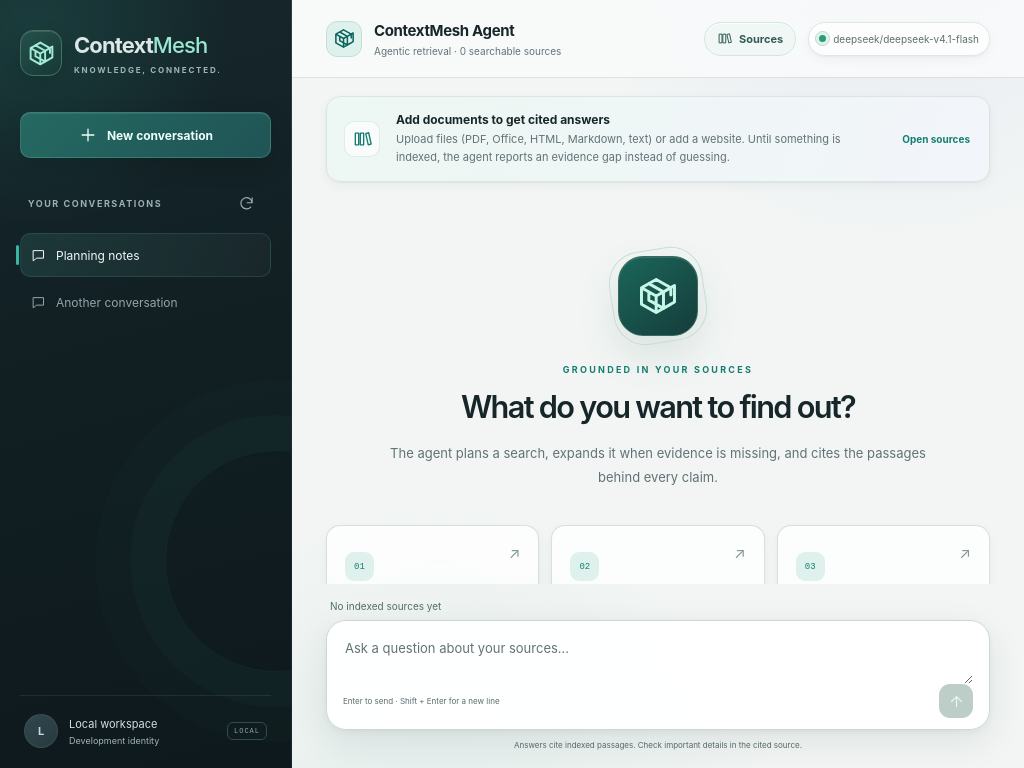
Scenario: saved conversation boundaries › shows a safe failure without disclosing arbitrary server text
Type "Help me plan" into the text box named "Message ContextMesh Agent" at {"x": 658, "y": 660}, box left=343, top=636, right=973, bottom=684
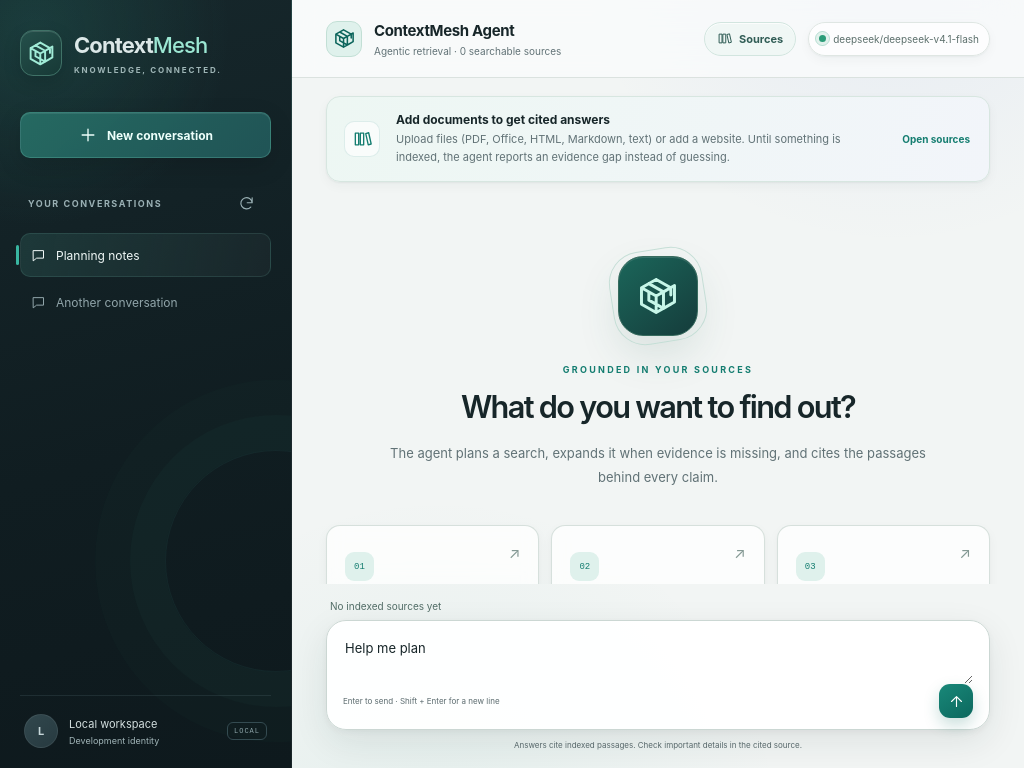
Click the button named "Send message" at {"x": 956, "y": 701}, box left=939, top=684, right=973, bottom=718
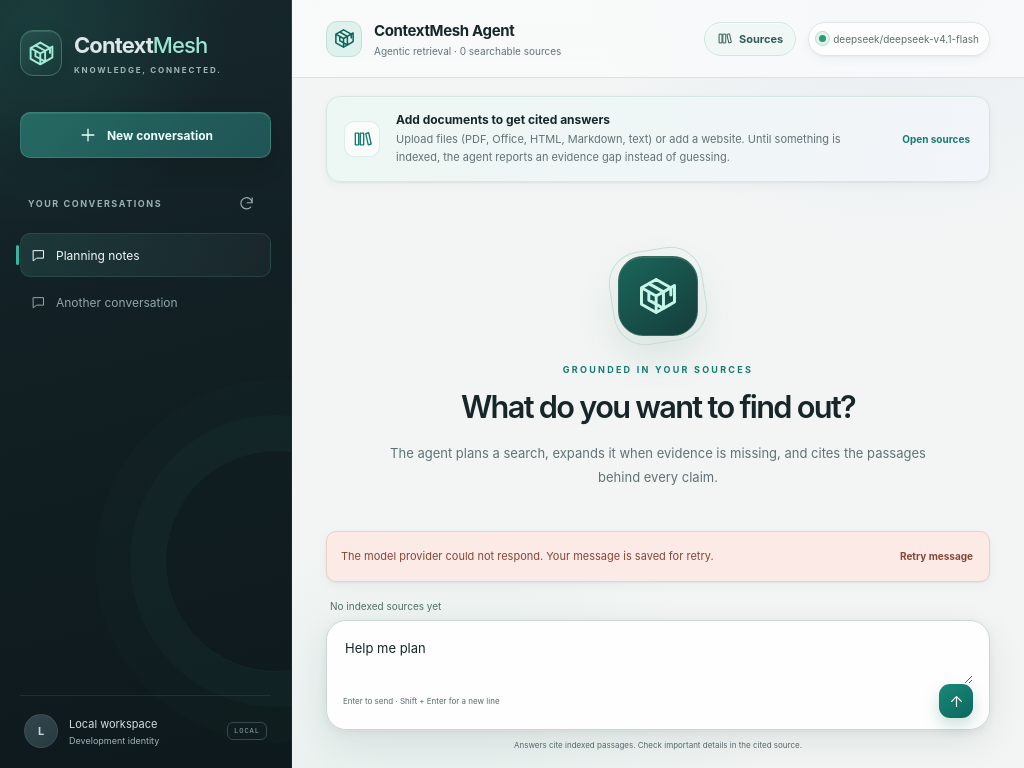
Check: the 2nd message is shown, box left=326, top=530, right=990, bottom=582
